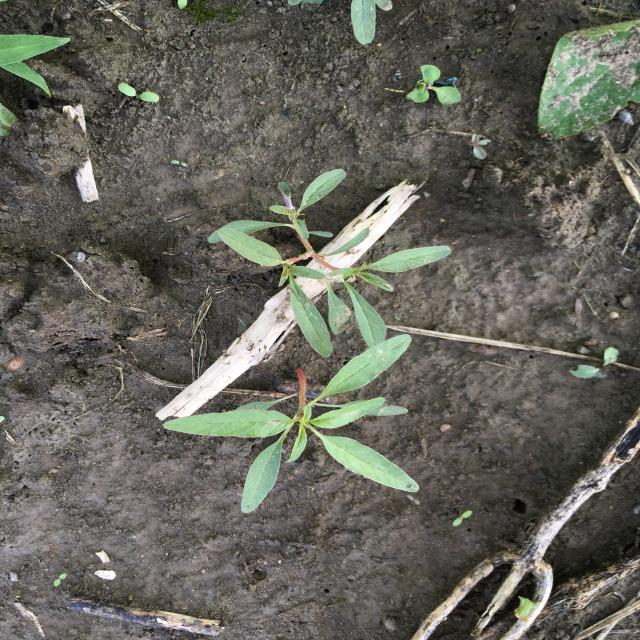Waterhemp: (160, 333, 422, 515), (206, 168, 455, 358)
